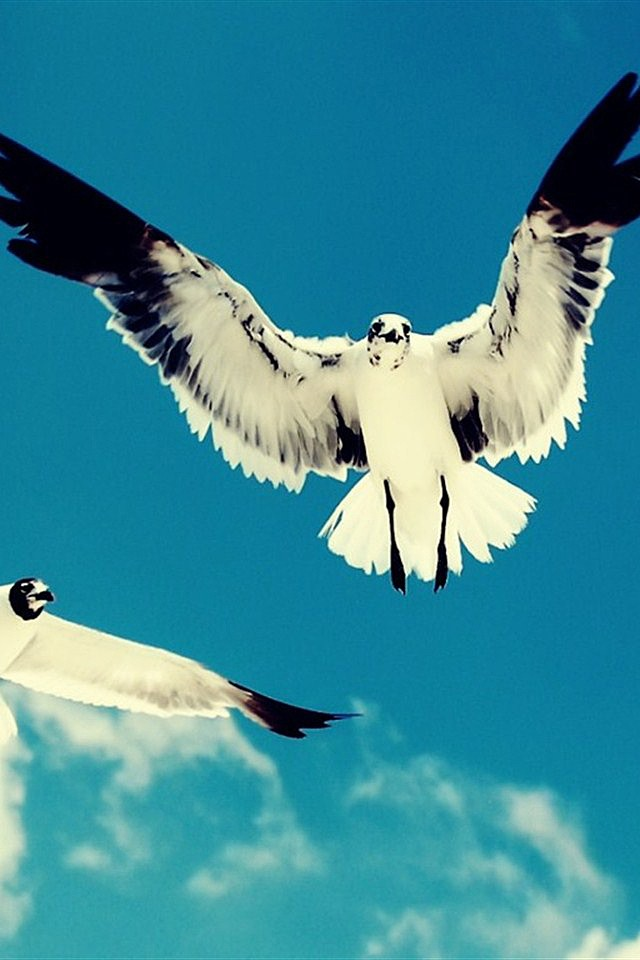bird: (12, 70, 634, 568), (1, 575, 365, 765)
